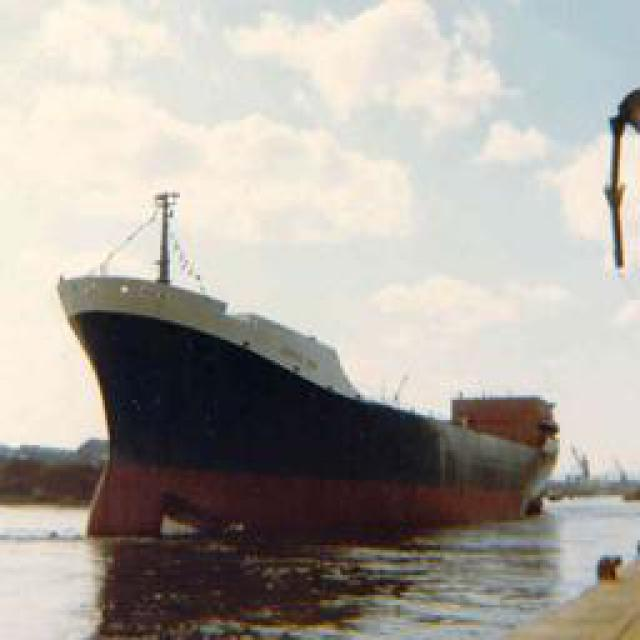Ship: (47, 208, 597, 553)
